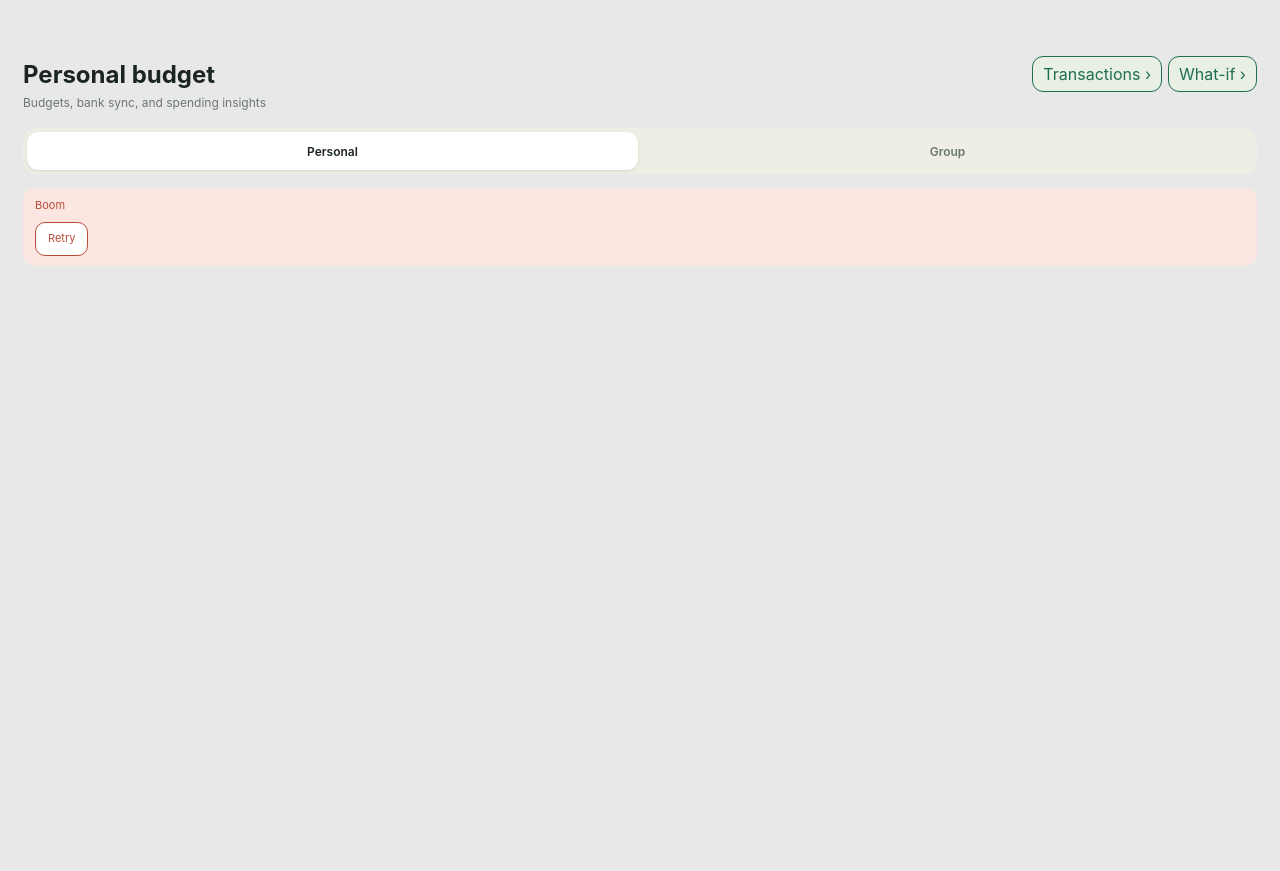
personal budget from the API › shows an error with a retry when the budget cannot load
Expected: the message shows "Boom", 35,198 -> 65,212
Click the button "Retry".
click(62, 239)  # box 35,222 -> 88,256
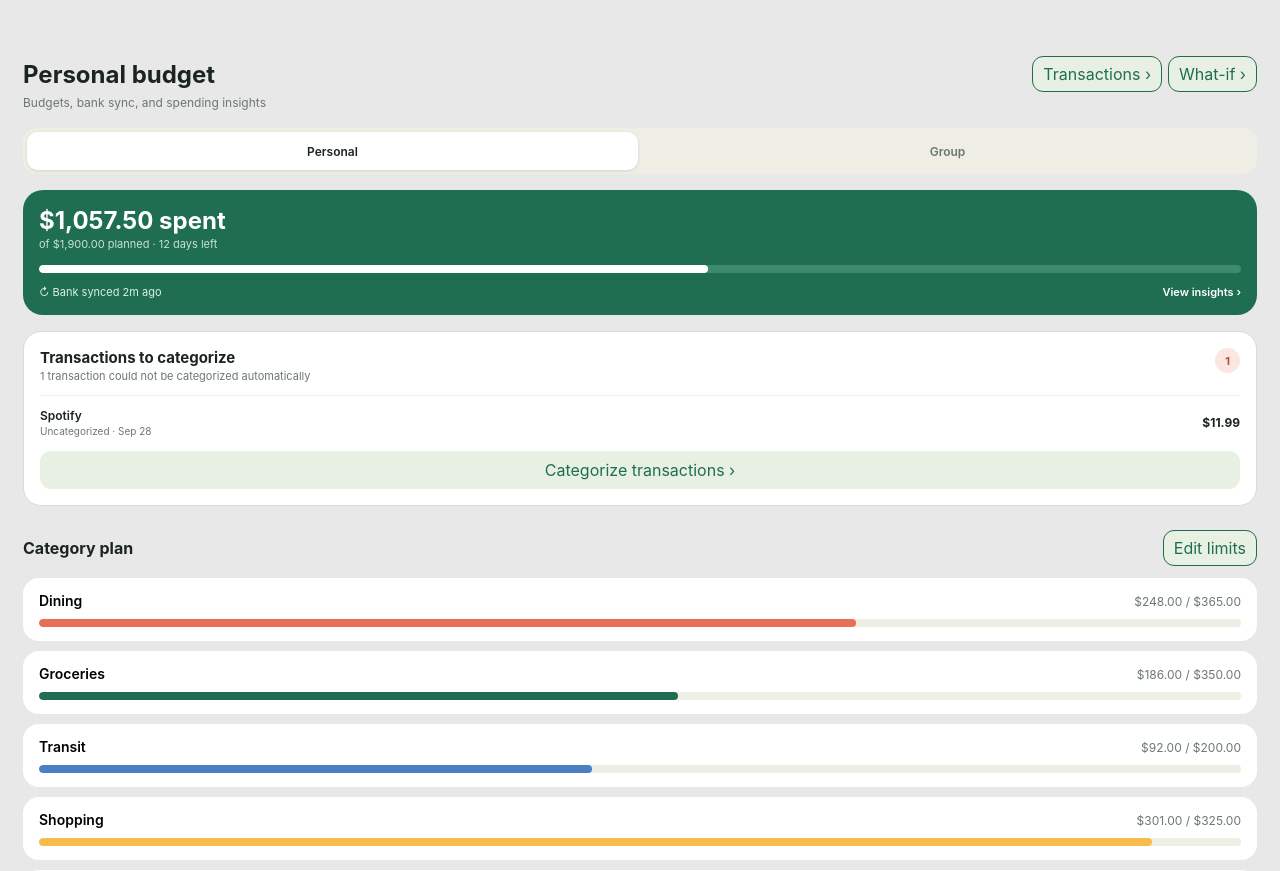
Expected: the text "$1,057.50 spent" is shown, 39,206 -> 226,235
